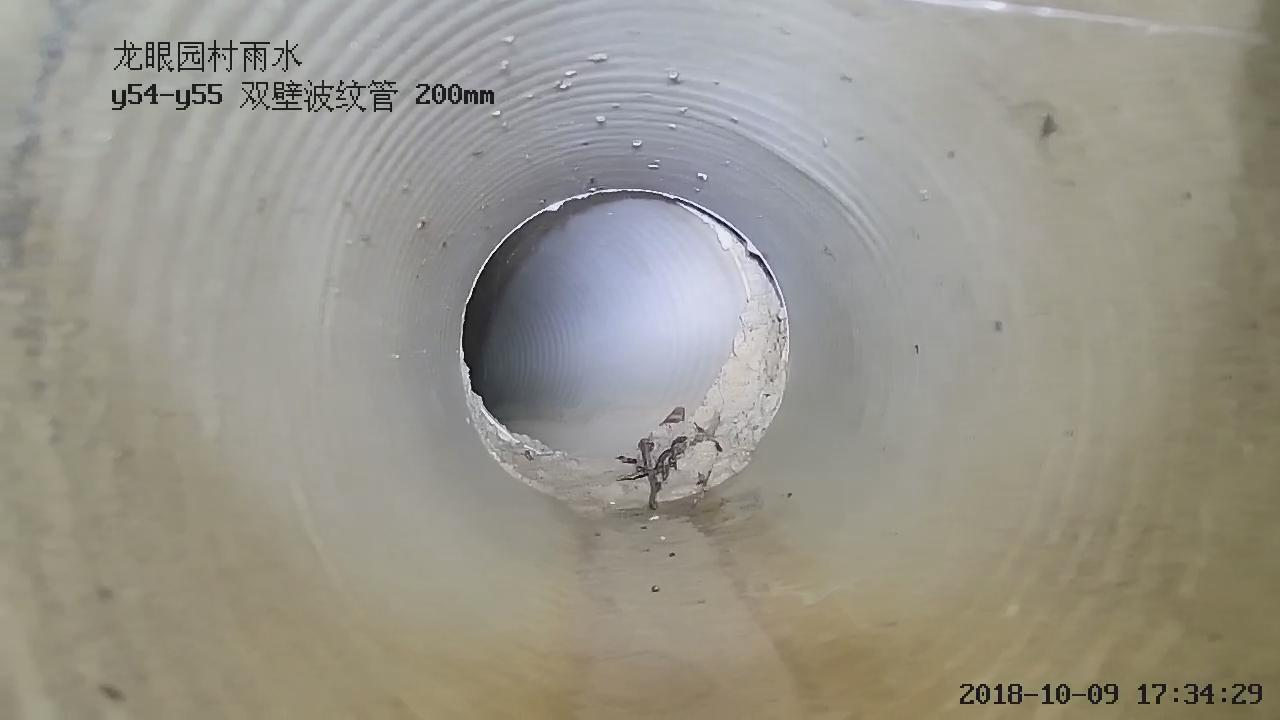CKTJ: (462, 189, 787, 511)
